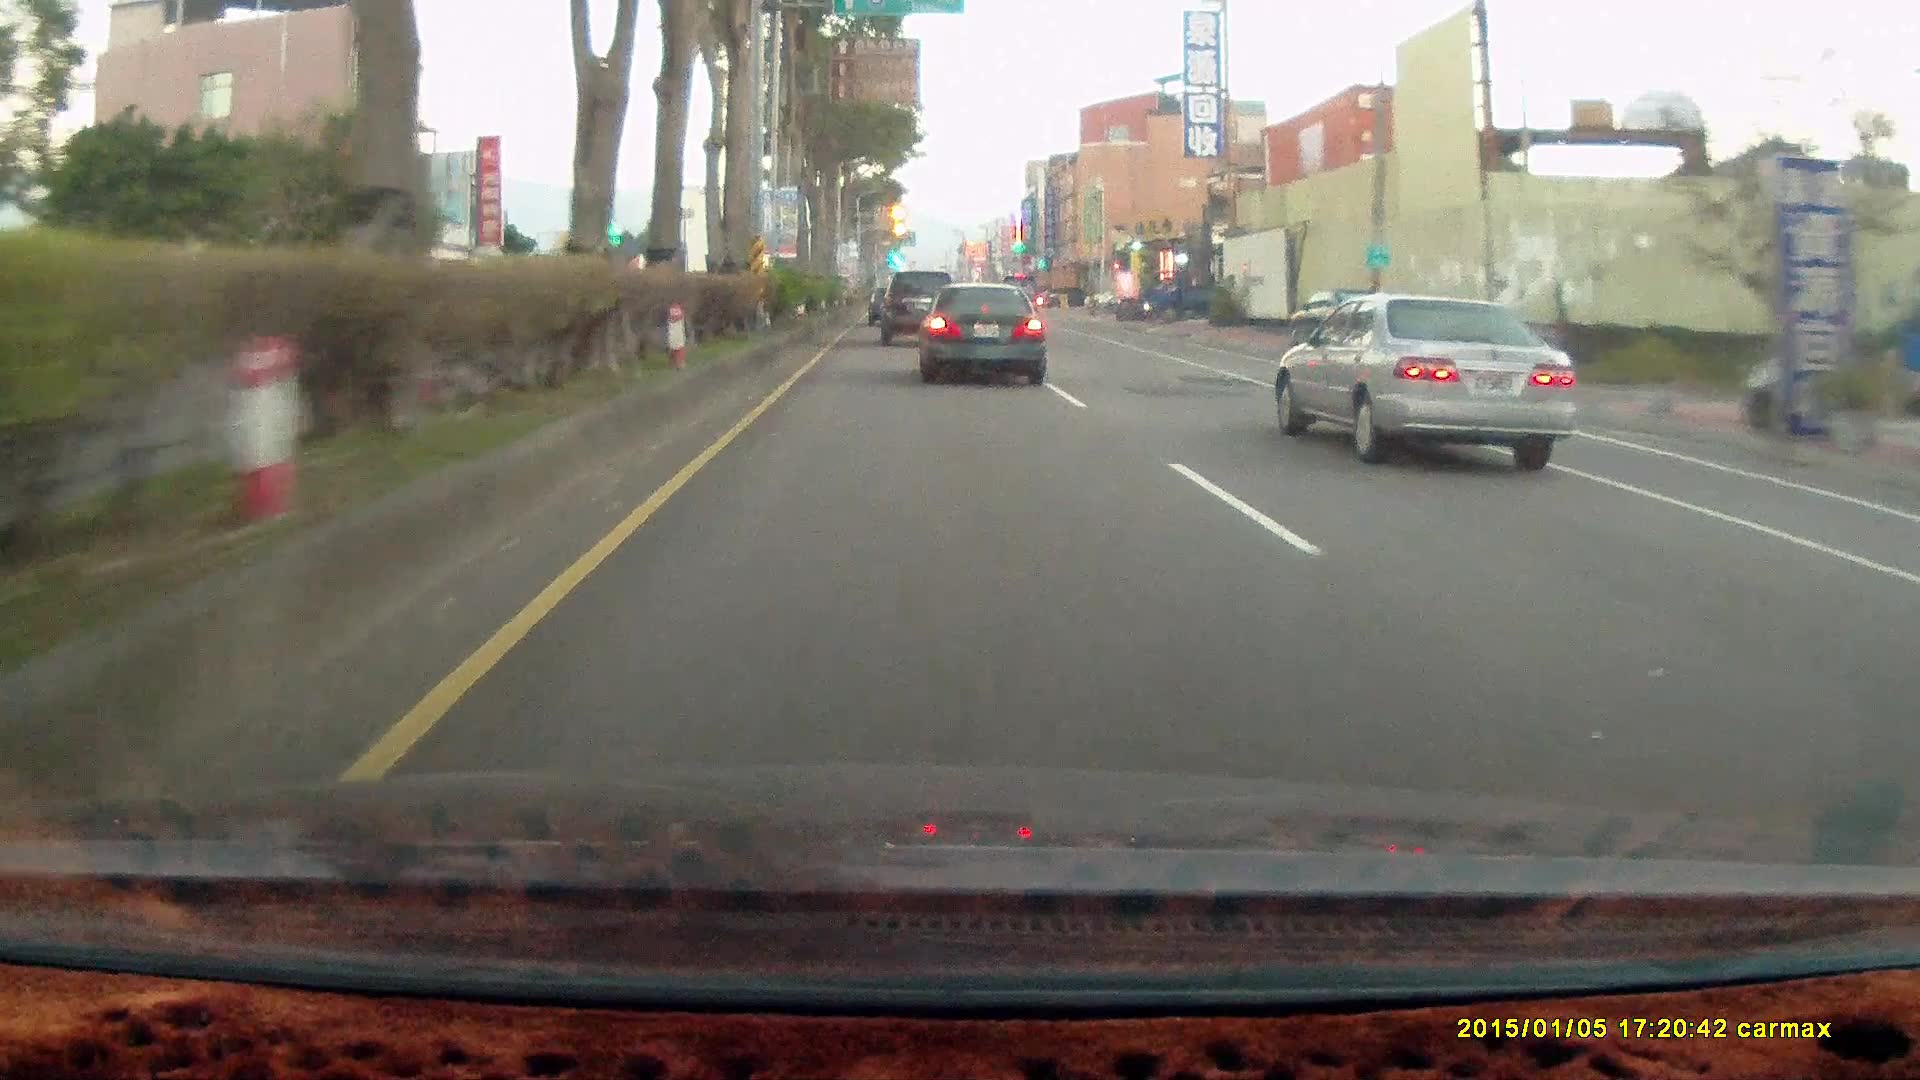vehicle: (1276, 291, 1592, 469), (1274, 291, 1577, 468), (913, 281, 1044, 385), (922, 285, 1051, 389), (880, 273, 960, 348), (880, 272, 960, 345), (1138, 266, 1222, 324), (1896, 266, 1920, 458), (1047, 286, 1088, 307)
